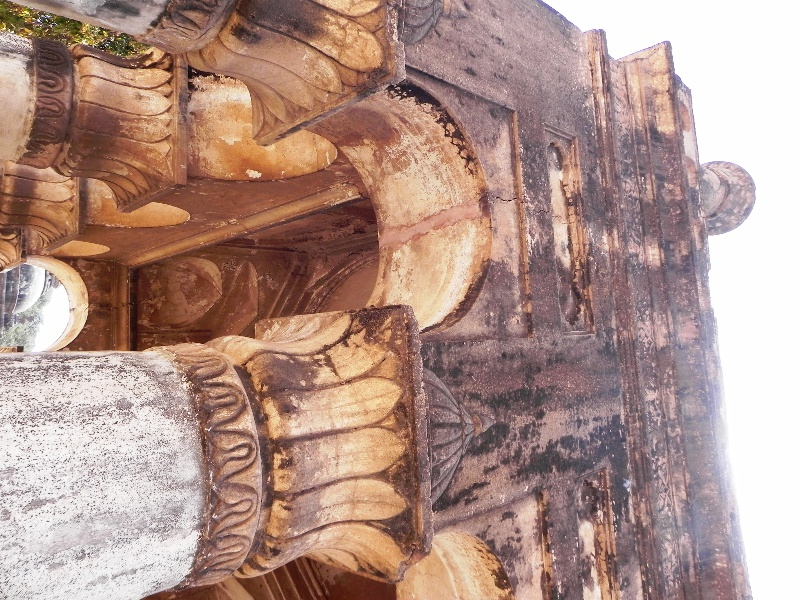Crack: (488, 190, 527, 208)
